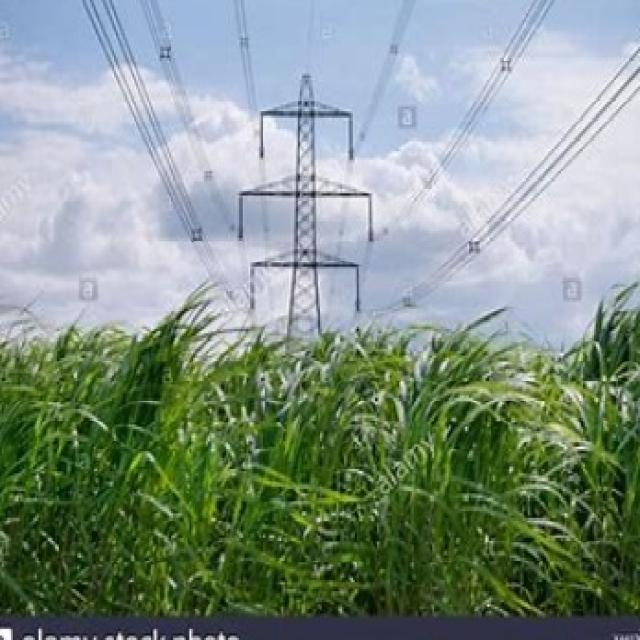utility poles: (230, 56, 370, 612)
